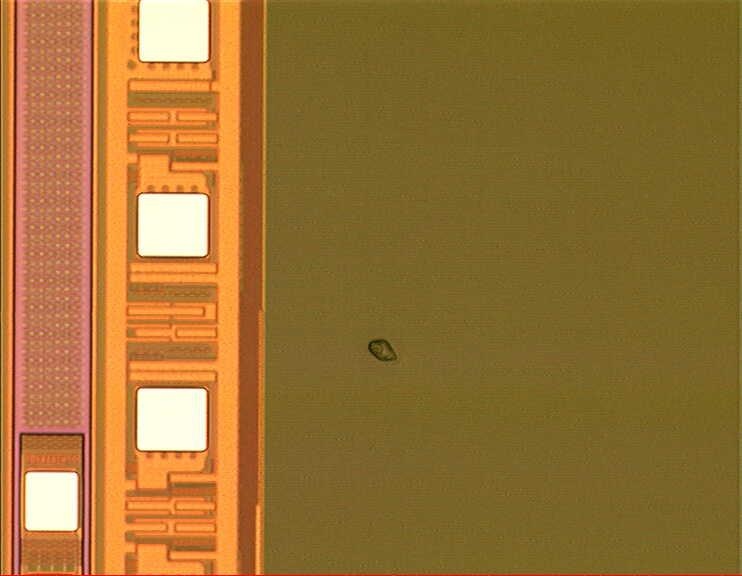PIQ PARTICLE: (362, 336, 404, 368)
